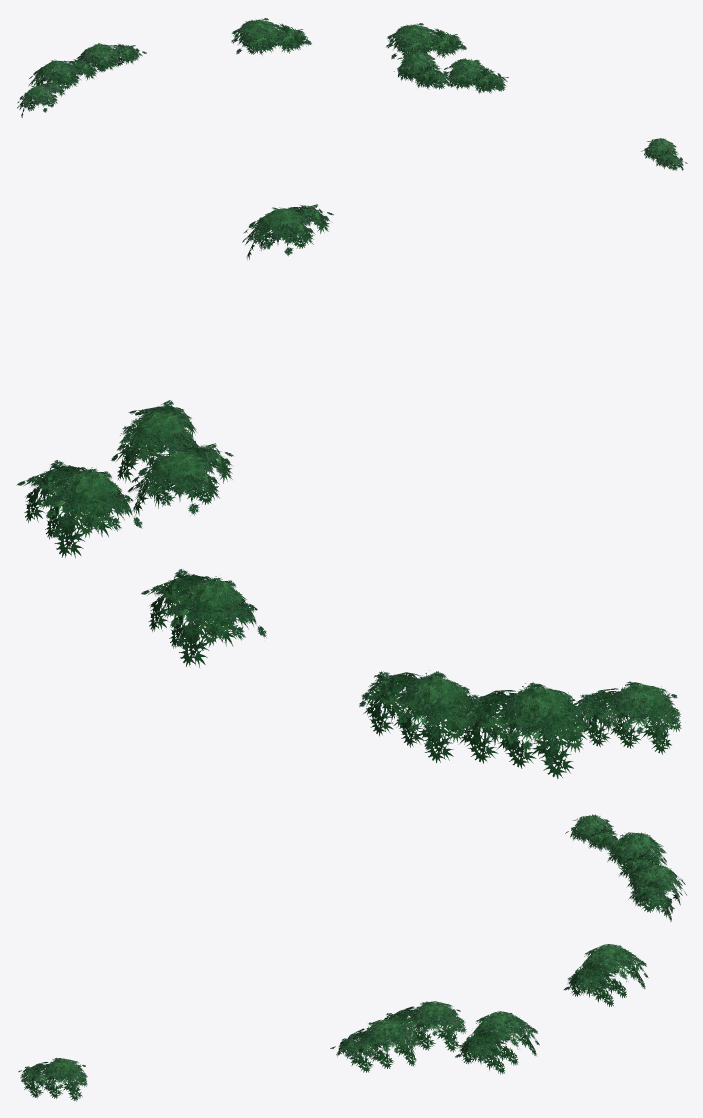
File: Area_12_27.fbx
3 views of the same model, one above another, from view 1: azimuth 30°, elevation 25°; view 2: azimuth 150°, elevation 25°; view 3: azimuth 270°, elevation 25° (orthographic). The views are drawn at different scales.
Parts seen in each view (by area): view 1: Area_12_27; view 2: Area_12_27; view 3: Area_12_27.
Part boxes in pixels (bbox=[...]): Area_12_27: bbox=[17, 18, 687, 170]; Area_12_27: bbox=[16, 204, 685, 778]; Area_12_27: bbox=[18, 814, 686, 1101].
Bounding box in the file's own units: 5415 × 542 × 5668.
